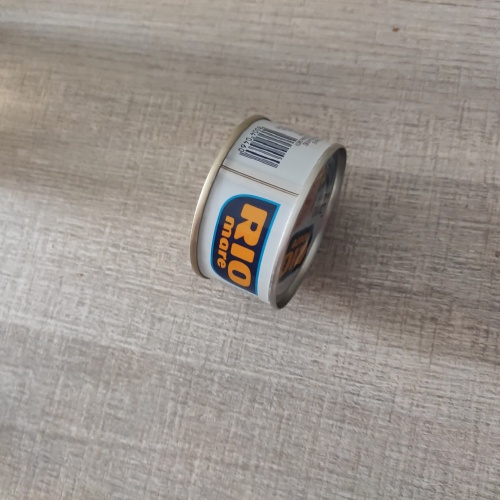tonno: (181, 109, 356, 316)
